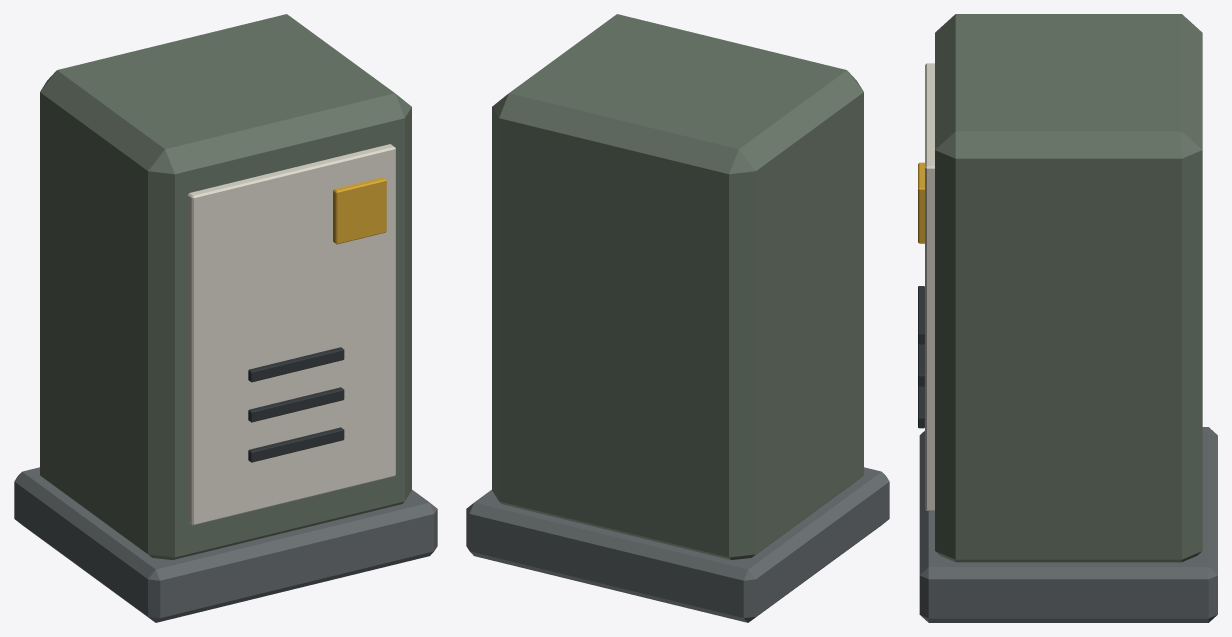
Rendered from PRP_CITY_022_utility_cabinet.glb.
The picture shows the model from 3 angles, left to right: view 1: azimuth 30°, elevation 25°; view 2: azimuth 150°, elevation 25°; view 3: azimuth 270°, elevation 25°; orthographic projection. The views are drawn at different scales.
Parts seen in each view (by area): view 1: PRP_CITY_022_utility_cabinet_RenderMesh; view 2: PRP_CITY_022_utility_cabinet_RenderMesh; view 3: PRP_CITY_022_utility_cabinet_RenderMesh.
Part boxes in pixels (left/top/right/bottom): PRP_CITY_022_utility_cabinet_RenderMesh: left=14, top=14, right=437, bottom=622; PRP_CITY_022_utility_cabinet_RenderMesh: left=466, top=14, right=889, bottom=622; PRP_CITY_022_utility_cabinet_RenderMesh: left=918, top=14, right=1217, bottom=622.
Bounding box in the file's own units: 0.68 × 1.03 × 0.583.
